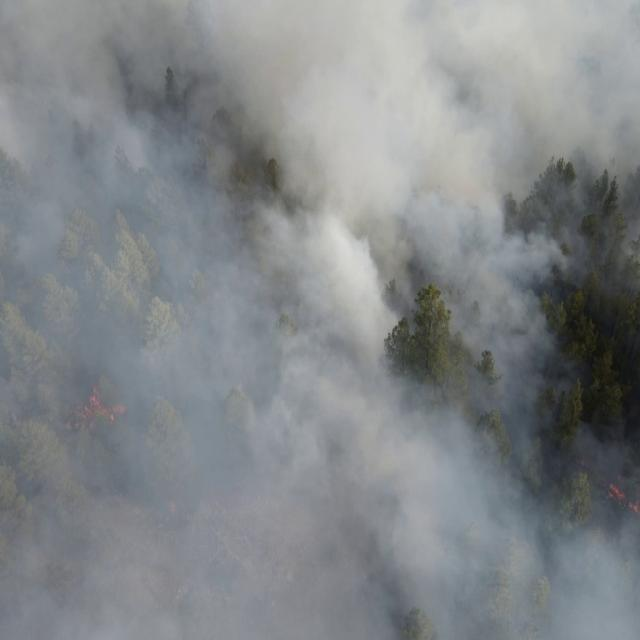fire: (64, 388, 128, 429), (608, 482, 640, 516)
smoke: (0, 0, 640, 640)
